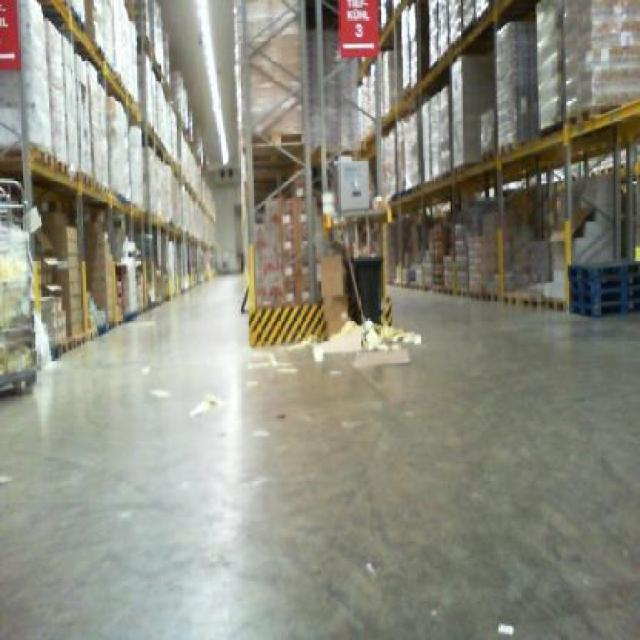ground: (0, 272, 638, 638)
pallet: (388, 99, 624, 202), (386, 277, 570, 312), (569, 257, 640, 320), (0, 138, 83, 186), (47, 324, 100, 360), (74, 170, 120, 202), (243, 127, 308, 149)
